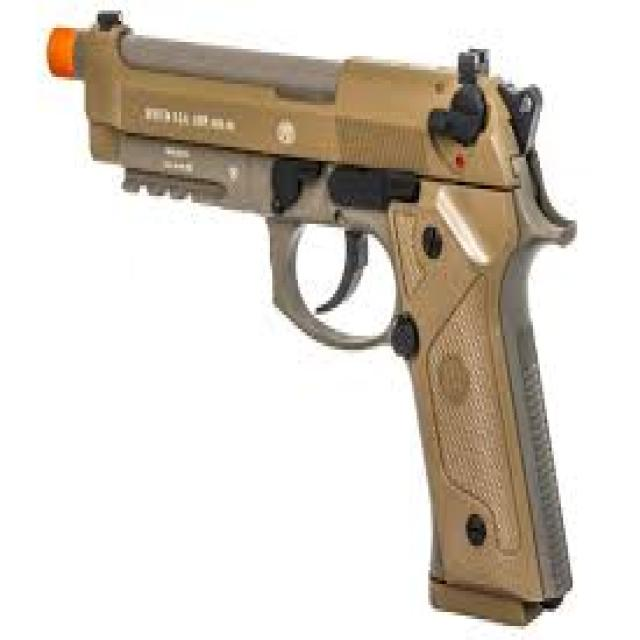pistol: (43, 1, 580, 638)
